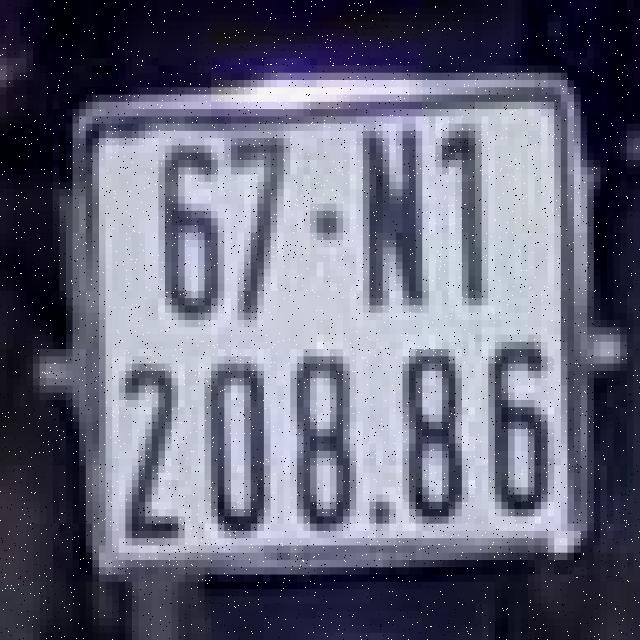0: (201, 353, 274, 542)
1: (436, 109, 508, 313)
2: (112, 349, 192, 553)
6: (148, 138, 228, 327), (485, 331, 557, 520)
7: (221, 127, 300, 324)
8: (280, 345, 360, 542), (403, 342, 475, 524)
N: (350, 112, 436, 324)
